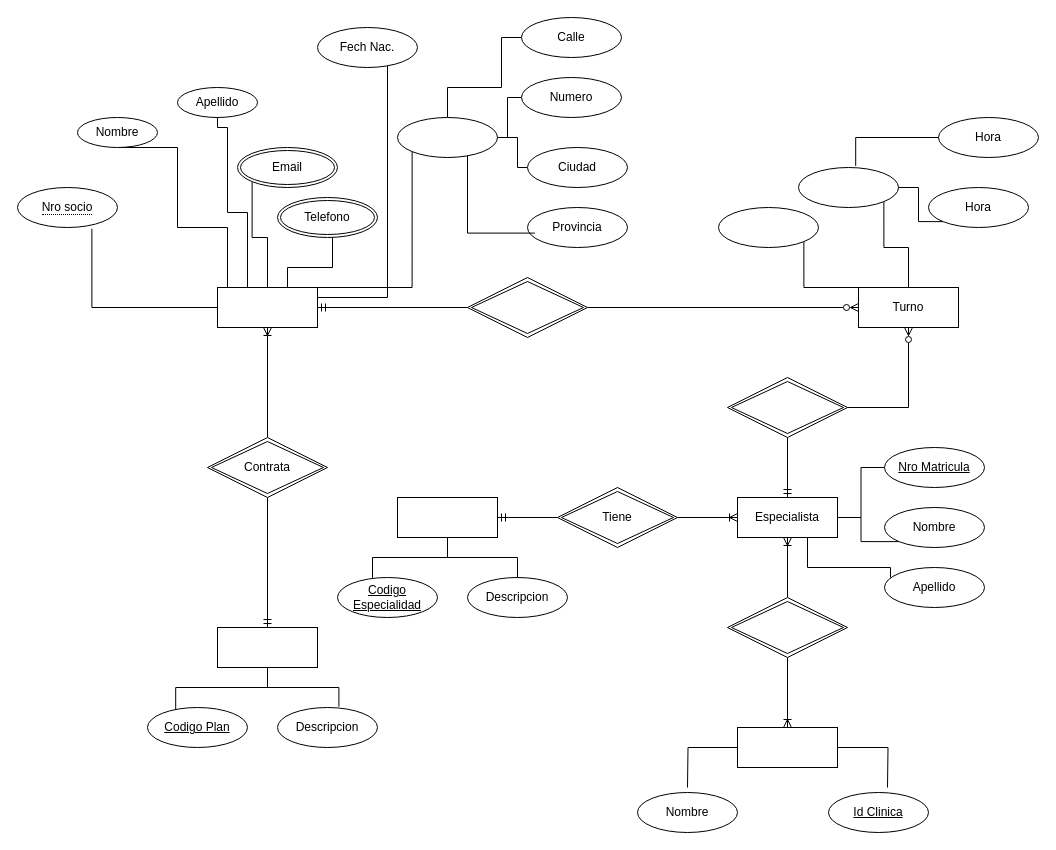
Image size: 1056x850. Some labels were removed from this diagram. Each missing label, with the centre of its shape:
Clinicia: (787,747)
Direccion: (447,137)
Es con: (787,407)
Especialidad: (447,517)
Fecha: (848,187)
Motivo consulta: (768,227)
Plan: (267,647)
Socio: (267,307)
Solicita: (527,307)
Trabaja en: (787,627)
